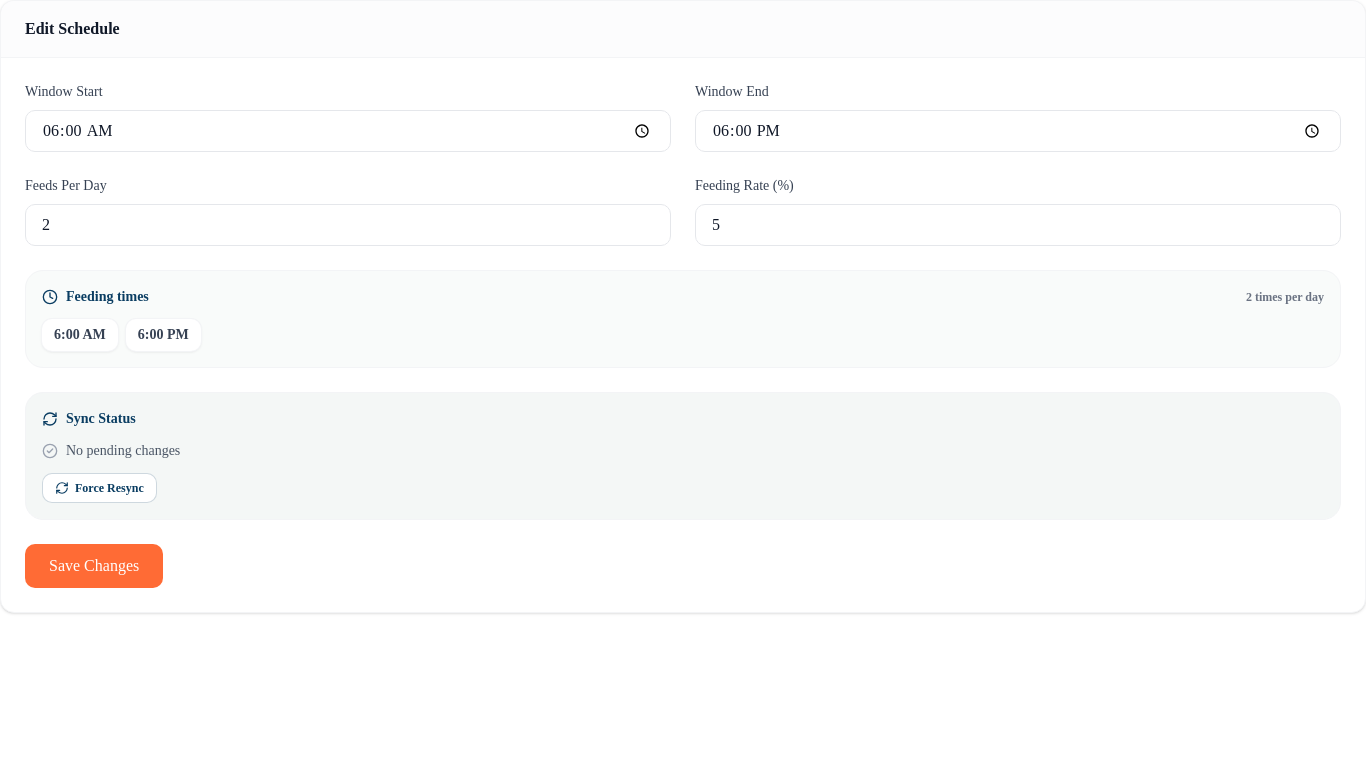
Test: ScheduleEditor feeding times (#431) › adds a third slot as soon as the frequency changes from 2 to 3
The image size is (1366, 768).
Expected: the elements with test id "feed-time-slot" read "6:00 AM", "6:00 PM", in this order, x1=42 y1=319 x2=118 y2=351; x1=126 y1=319 x2=201 y2=351
Replace the text in the number field labelled "Feeds Per Day" with "3": (348, 225) x1=25 y1=204 x2=671 y2=246
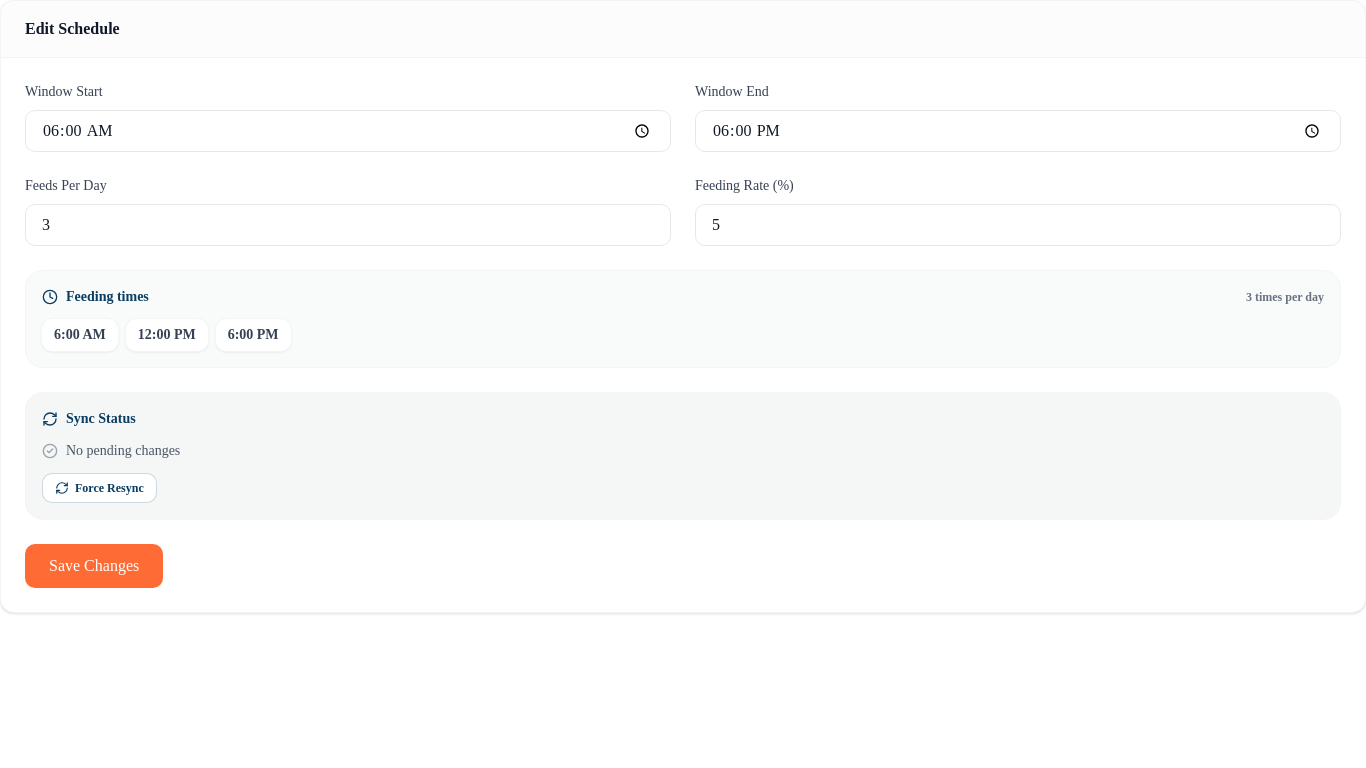
Expected: the elements with test id "feed-time-slot" read "6:00 AM", "12:00 PM", "6:00 PM", in this order, x1=42 y1=319 x2=118 y2=351; x1=126 y1=319 x2=208 y2=351; x1=216 y1=319 x2=291 y2=351
